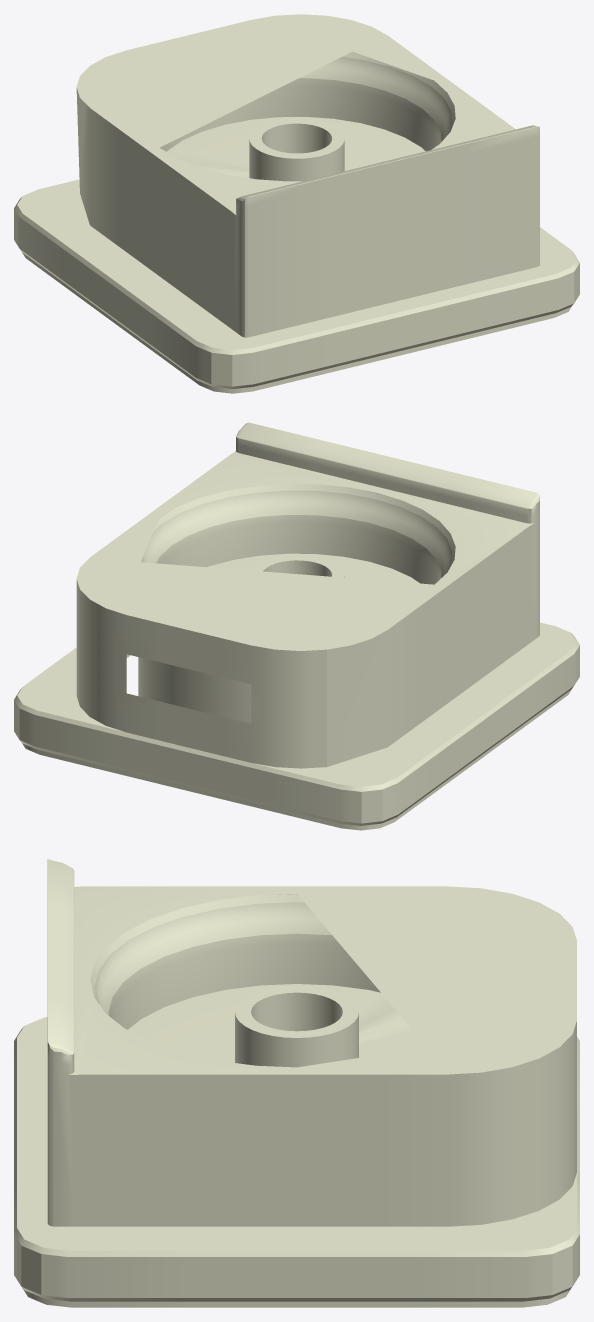
File: DesbastadoraModelV6.fbx
3 views of the same model, one above another, from view 1: azimuth 30°, elevation 25°; view 2: azimuth 150°, elevation 25°; view 3: azimuth 270°, elevation 25° (orthographic). The views are drawn at different scales.
Parts seen in each view (by area): view 1: Body; view 2: Body; view 3: Body.
Boxes of the visible parts, box(x1,y1,x2,y2) form: Body: box(14, 14, 579, 393); Body: box(14, 422, 579, 830); Body: box(14, 859, 579, 1307).
Size of the model in its own units: 1011 by 474 by 1011.
